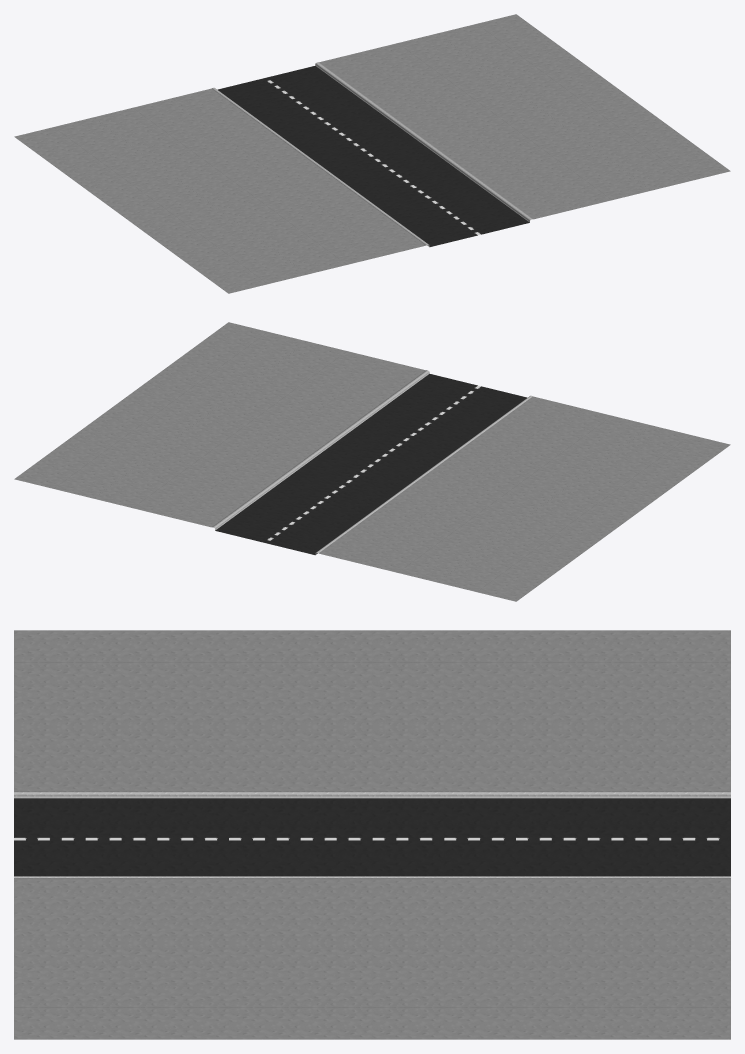
The model's file is route.fbx.
3 views of the same model, one above another, from view 1: azimuth 30°, elevation 25°; view 2: azimuth 150°, elevation 25°; view 3: azimuth 270°, elevation 25° (orthographic). The views are drawn at different scales.
Parts seen in each view (by area): view 1: route; view 2: route; view 3: route.
Part boxes in pixels (bbox=[...]): route: bbox=[14, 14, 730, 293]; route: bbox=[14, 322, 730, 601]; route: bbox=[14, 630, 730, 1039].
Bounding box in the file's own units: 2703 × 14.28 × 2000.
1 material, 1 textured.
